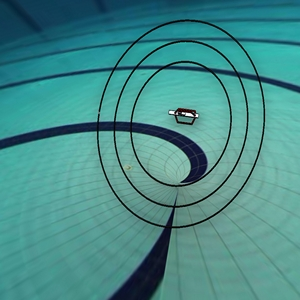circle: (91, 13, 272, 243)
submarine: (160, 96, 203, 132)
